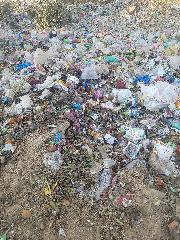general: (90, 130, 100, 138)
plastic: (142, 80, 174, 112), (30, 46, 52, 64), (81, 66, 99, 80)
